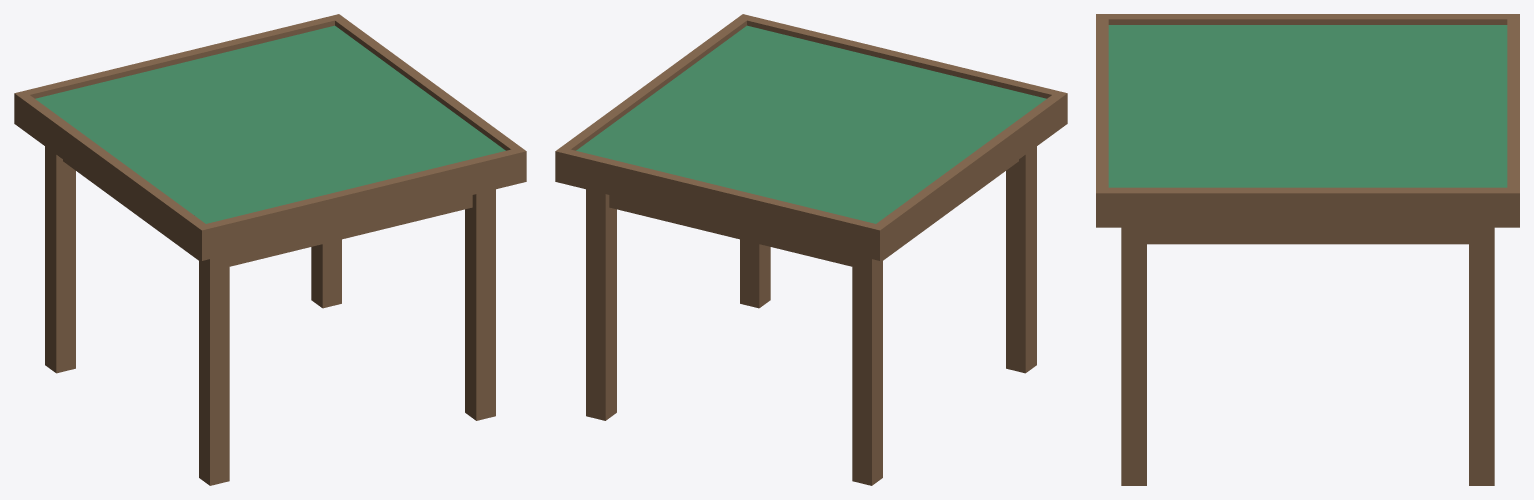
The model's file is table.gltf.
3 renders of one model, left to right at view 1: azimuth 30°, elevation 25°; view 2: azimuth 150°, elevation 25°; view 3: azimuth 270°, elevation 25°, orthographic. The views are drawn at different scales.
Parts seen in each view (by area): view 1: table; view 2: table; view 3: table.
Boxes of the visible parts, box(x1,y1,x2,y2) form: table: box(14, 14, 526, 485); table: box(555, 14, 1067, 485); table: box(1096, 14, 1519, 485).
Bounding box in the file's own units: 1 × 0.79 × 1.
